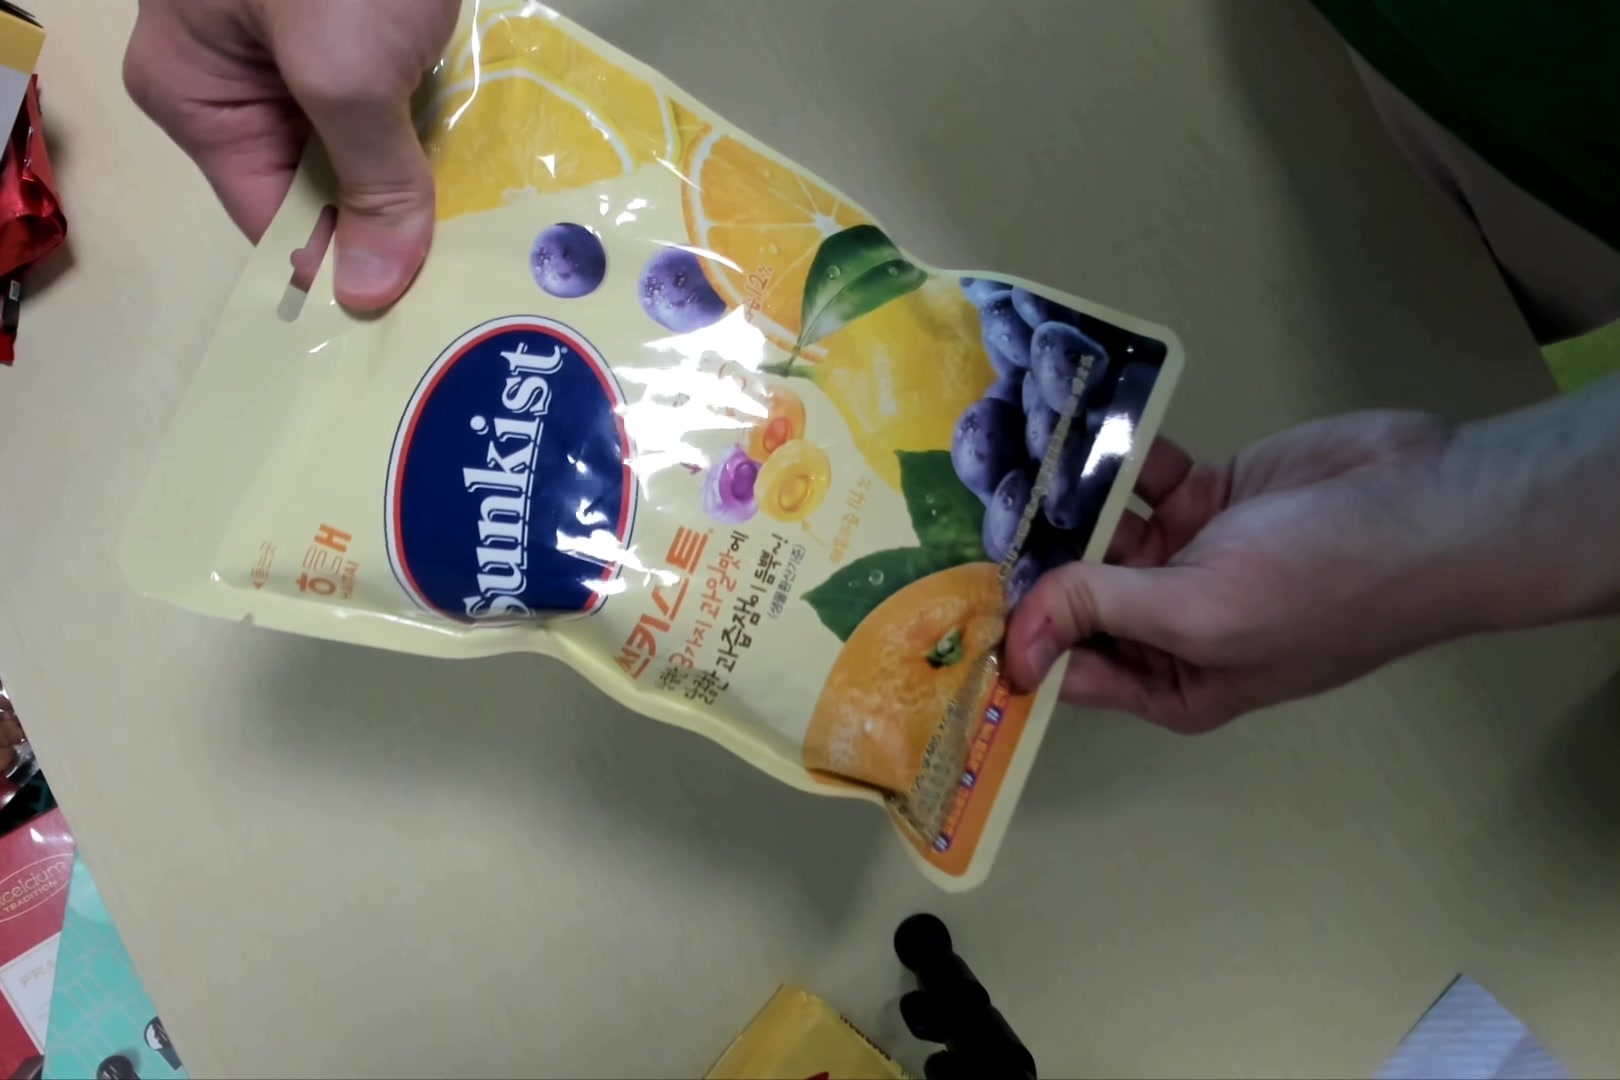SweetsChocolatesOthers_100-199g_NonHalal_NonHealthy: (125, 2, 1182, 900)
